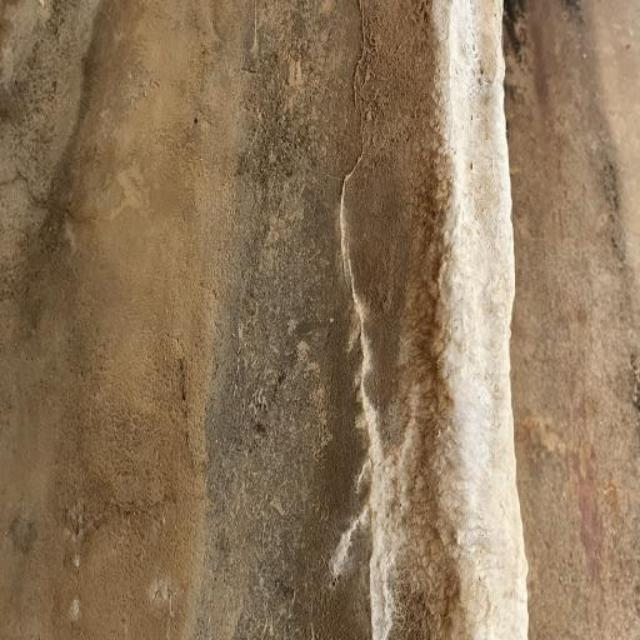D01: (442, 2, 525, 639), (334, 170, 405, 639)
